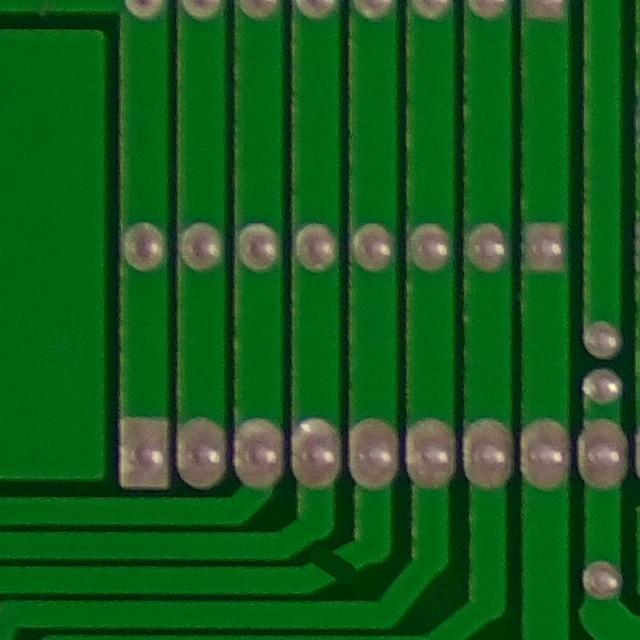open_circuit: (302, 539, 368, 593)
